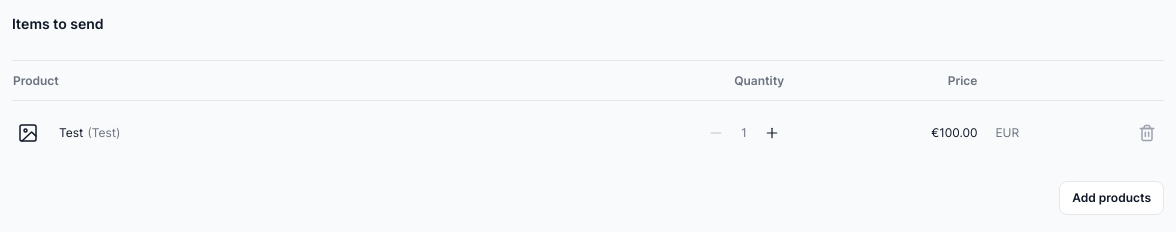
Scenario: ItemsToSendForm with RegisterClaimMenu › should update quantity correctly
This screenshot has width=1176, height=232.
Click the button named "Increase quantity".
click(772, 133)  # box left=760, top=121, right=784, bottom=145
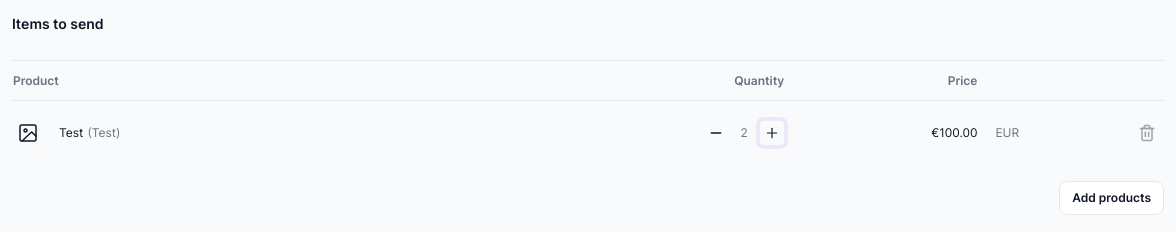
Expected: the text "2" is shown, left=740, top=123, right=748, bottom=143
Click the button named "Increase quantity".
click(772, 133)  # box left=760, top=121, right=784, bottom=145
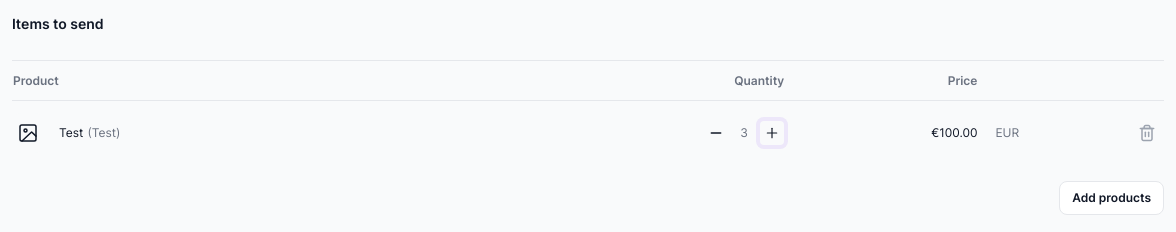
Expected: the text "3" is shown, left=740, top=123, right=748, bottom=143
Click the button named "Decrease quantity".
click(716, 133)  # box left=704, top=121, right=728, bottom=145
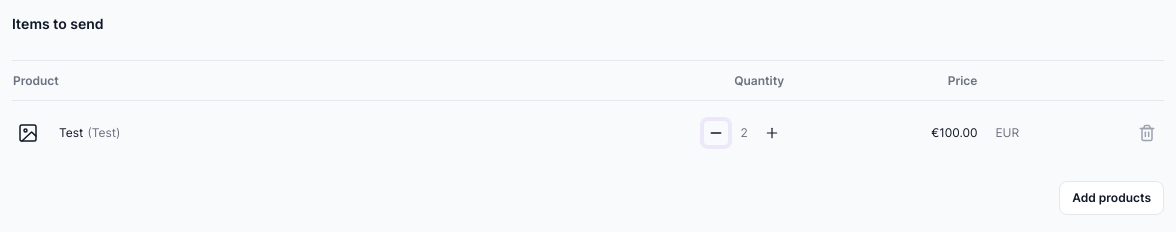
Expected: the text "2" is shown, left=740, top=123, right=748, bottom=143
